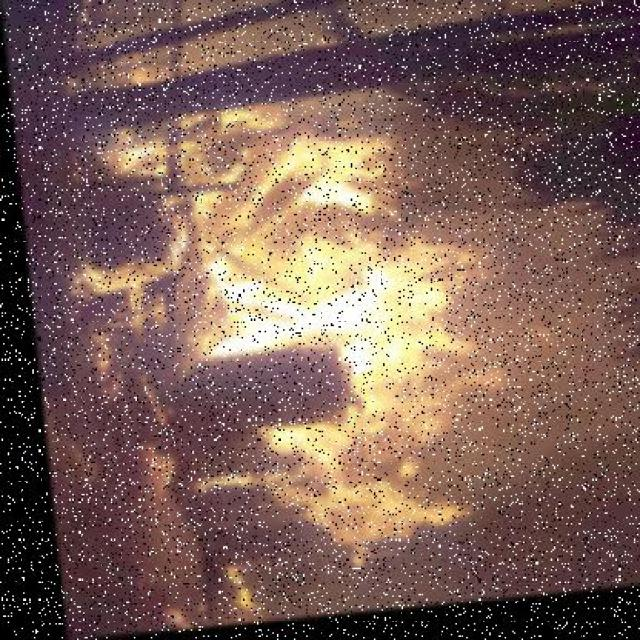fire: (193, 102, 535, 559)
